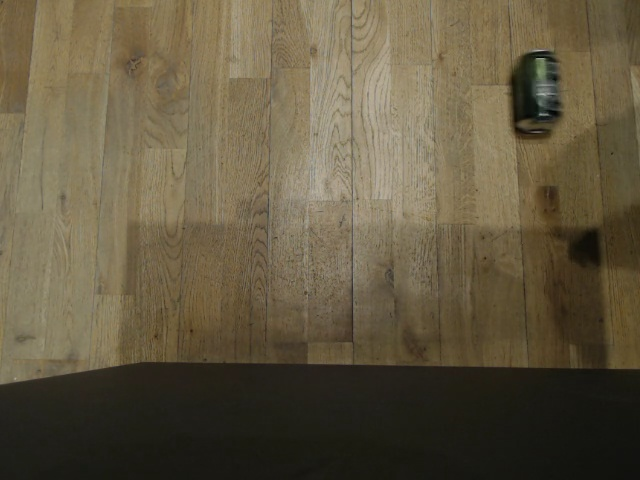beer: (508, 48, 568, 141)
